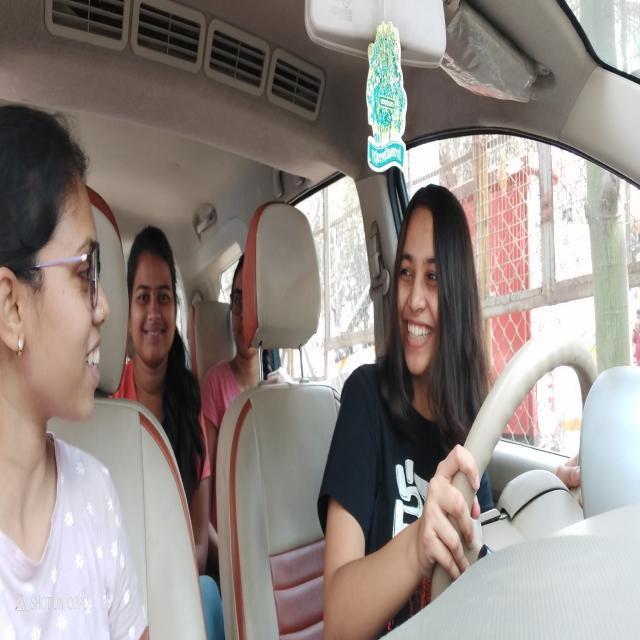LeftRight: (390, 178, 460, 396)
person: (0, 84, 111, 440), (127, 218, 180, 375), (229, 254, 261, 374)
talking: (84, 326, 104, 392)
